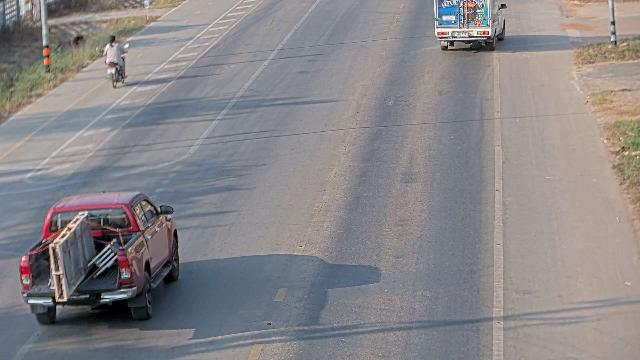pickup-truck: (19, 190, 180, 324), (433, 0, 507, 51)
